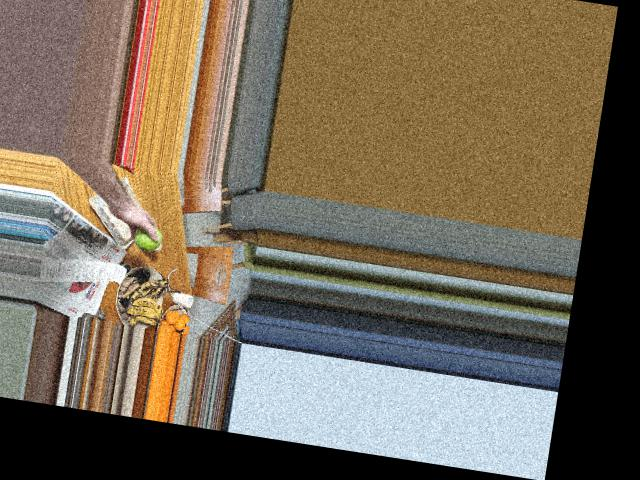apple: (130, 220, 166, 254)
